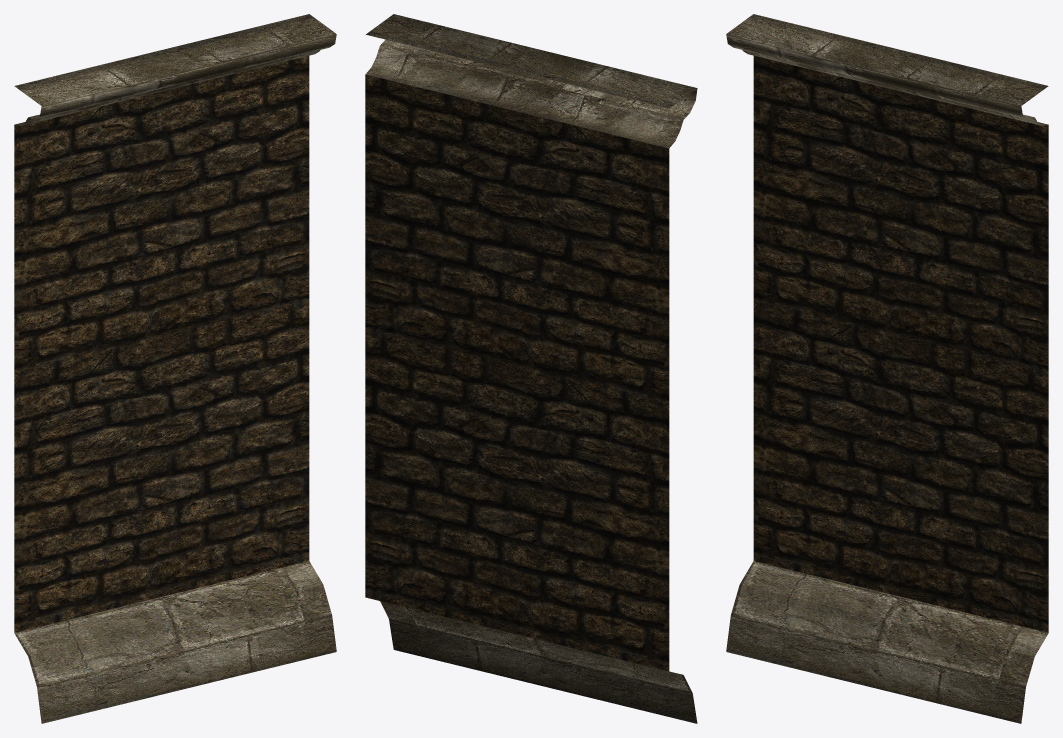
The model's file is cell_wall_worn_short.dae.
The picture shows the model from 3 angles, left to right: view 1: azimuth 30°, elevation 25°; view 2: azimuth 150°, elevation 25°; view 3: azimuth 330°, elevation 25°; orthographic projection. The views are drawn at different scales.
Parts seen in each view (by area): view 1: polySurface114, polySurface119; view 2: polySurface114, polySurface119; view 3: polySurface114, polySurface119.
Boxes of the visible parts, x1,y1,x2,y2 form: polySurface114: (14, 55, 309, 632); polySurface119: (14, 14, 336, 723); polySurface114: (365, 74, 669, 671); polySurface119: (366, 14, 697, 723); polySurface114: (753, 55, 1048, 632); polySurface119: (726, 14, 1048, 723).
Size of what is drawn, in the model's own units: 2 by 4 by 0.3219.
